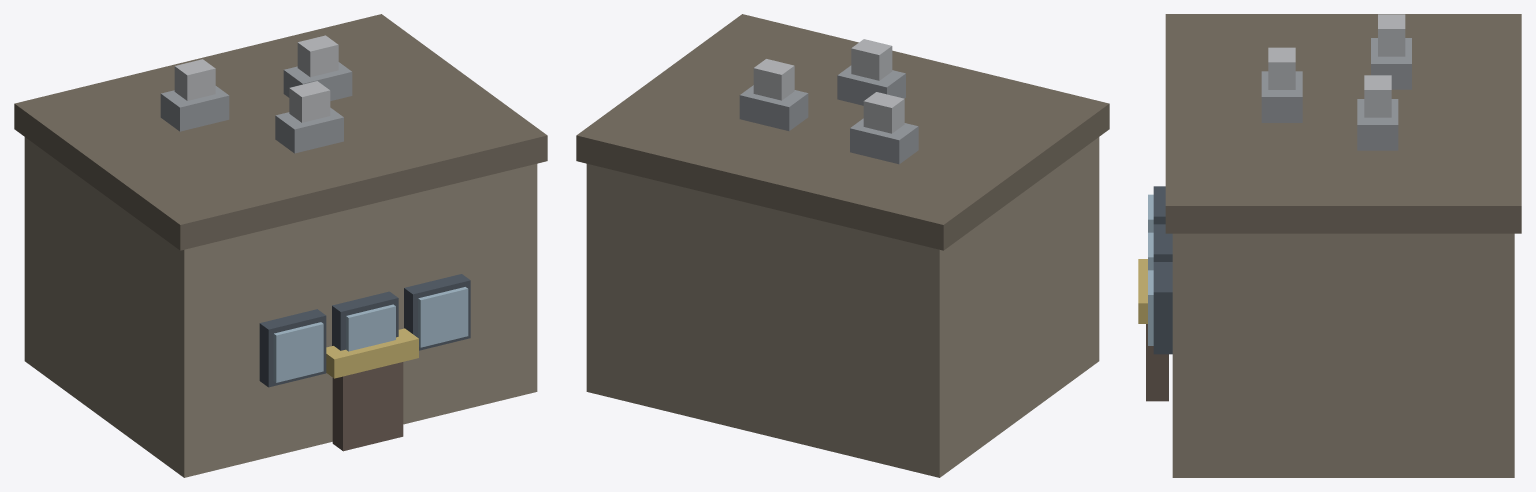
The model's file is pawn_shop.glb.
3 views of the same model, side by side, from view 1: azimuth 30°, elevation 25°; view 2: azimuth 150°, elevation 25°; view 3: azimuth 270°, elevation 25° (orthographic). The views are drawn at different scales.
Visible parts, largest first — view 1: world; view 2: world; view 3: world.
Part boxes in pixels (box(x1,y1,x2,y2)): world: box(14, 14, 547, 477); world: box(576, 14, 1109, 477); world: box(1138, 14, 1521, 477).
Bounding box in the file's own units: 1.2 × 0.96 × 1.01.
